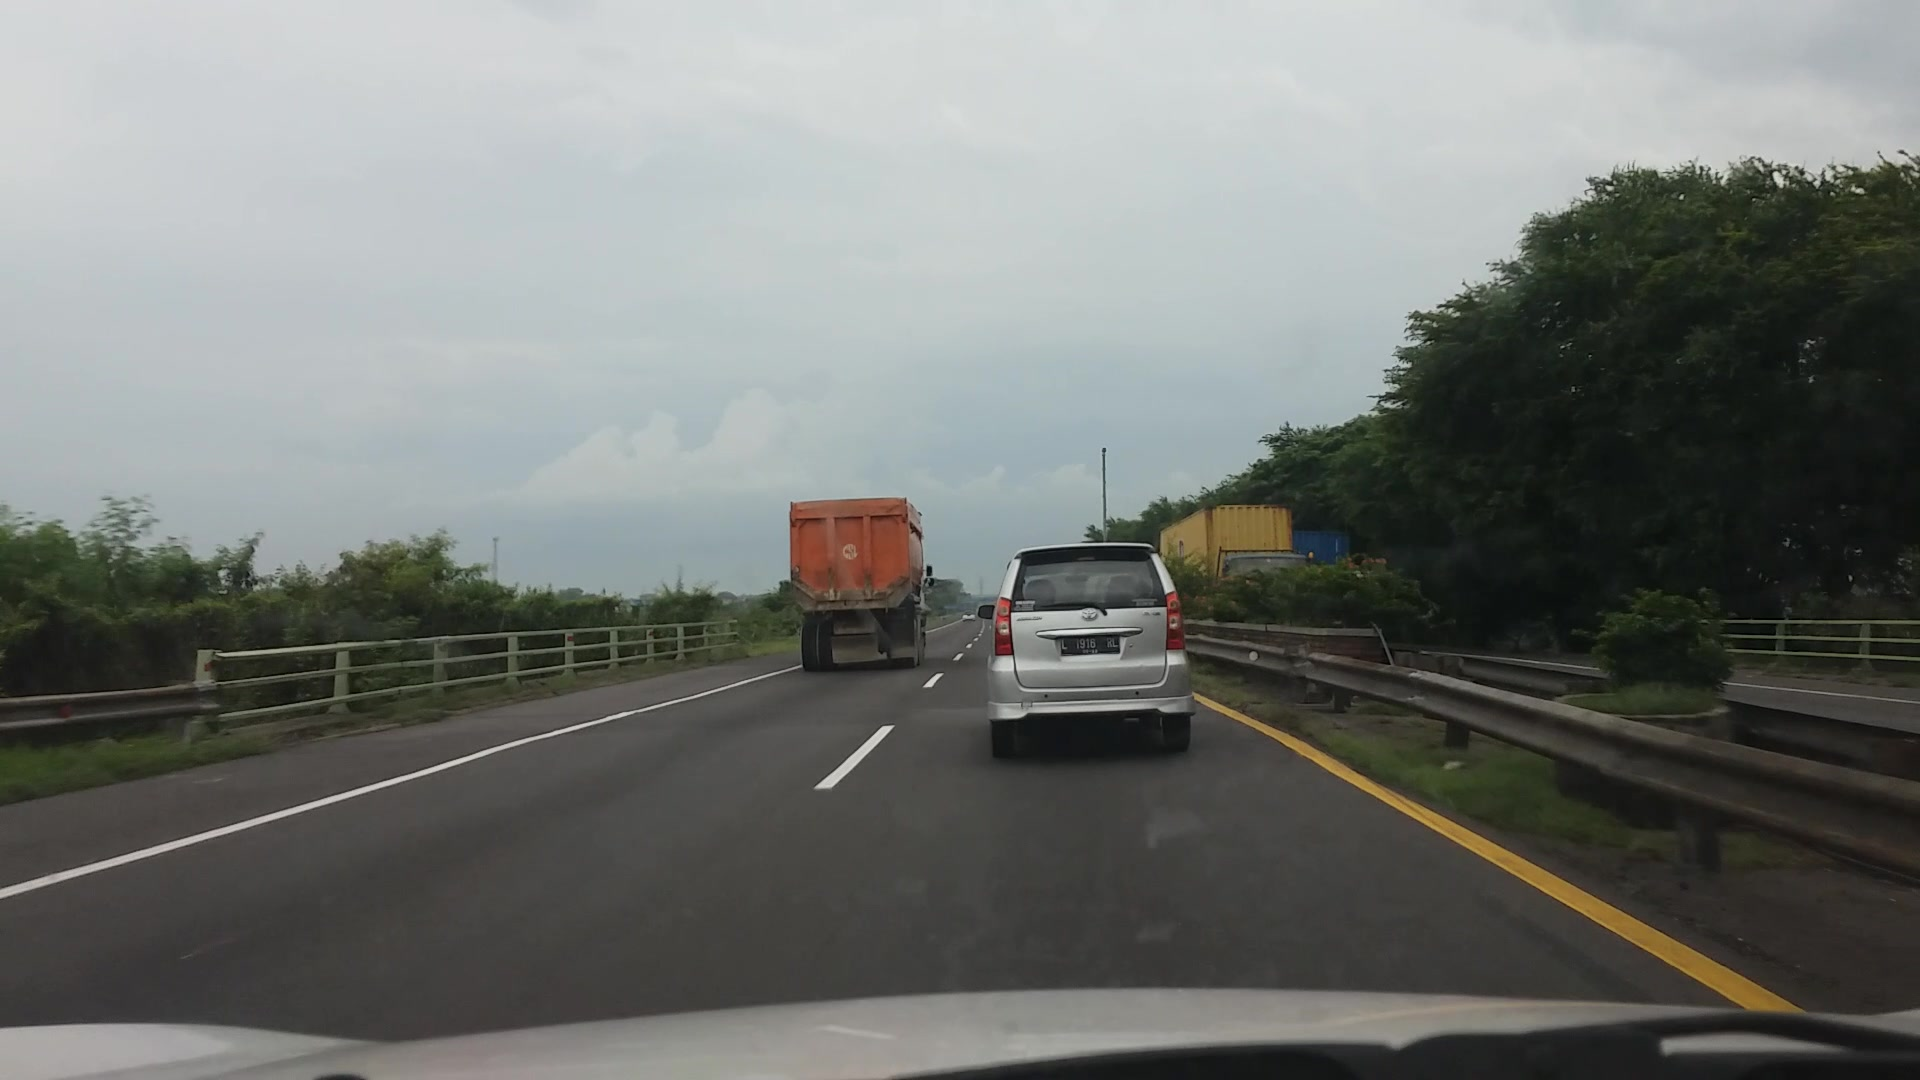plate_positive: (1060, 636, 1120, 655)
